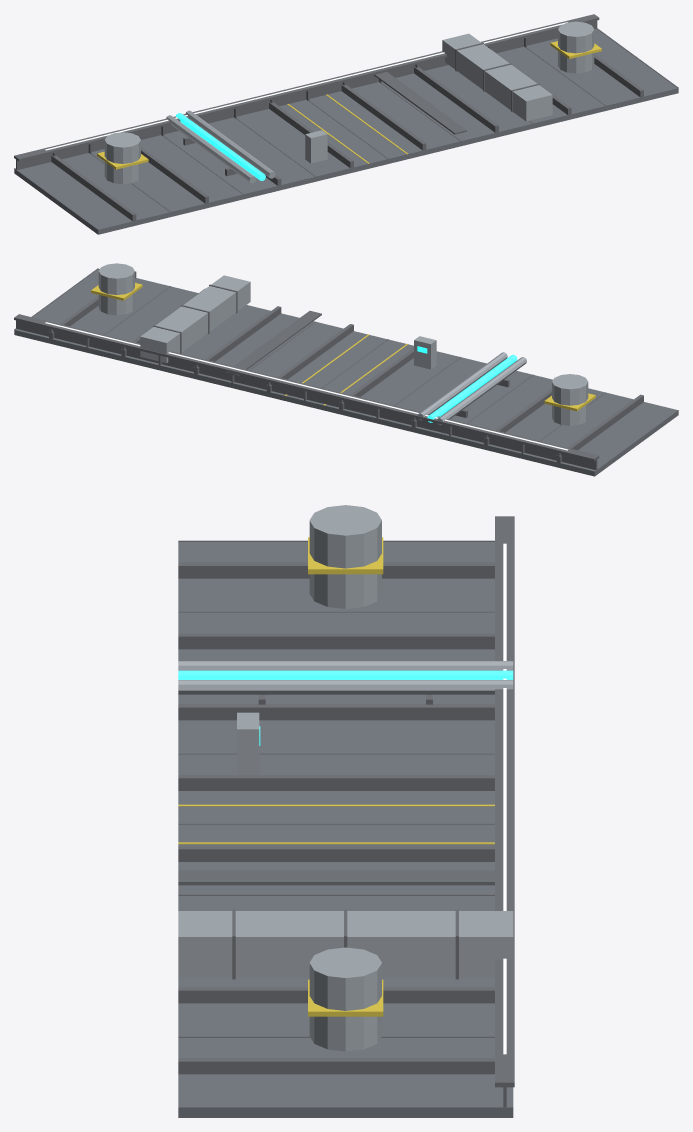
The model's file is hull_bay.glb.
The picture shows the model from 3 angles, top to bottom: view 1: azimuth 30°, elevation 25°; view 2: azimuth 150°, elevation 25°; view 3: azimuth 270°, elevation 25°; orthographic projection. The views are drawn at different scales.
Parts seen in each view (by area): view 1: Plating, Duct, RibFlange, RibWeb, Tank_0, Tank_1, CableTray, RibLight, Pipe_0, Stringer_4, Stringer_0, Pipe_1 (+6 smaller); view 2: Plating, RibWeb, Duct, RibFlange, Tank_0, Tank_1, CableTray, RibLight, Pipe_0, Pipe_1, Pipe_2, Stringer_4 (+6 smaller); view 3: Plating, Duct, RibFlange, Tank_1, Tank_0, Stringer_1, Stringer_4, Stringer_7, Stringer_2, Stringer_3, CableTray, Pipe_2 (+9 smaller).
Part boxes in pixels (x1=…): Plating: x1=14, y1=29, x2=678, y2=234; Duct: x1=442, y1=33, x2=552, y2=121; RibFlange: x1=14, y1=14, x2=599, y2=161; RibWeb: x1=16, y1=20, x2=597, y2=169; Tank_0: x1=104, y1=132, x2=140, y2=184; Tank_1: x1=558, y1=21, x2=594, y2=73; CableTray: x1=374, y1=72, x2=466, y2=134; RibLight: x1=45, y1=22, x2=567, y2=150; Pipe_0: x1=166, y1=115, x2=256, y2=183; Stringer_4: x1=341, y1=84, x2=426, y2=150; Stringer_0: x1=51, y1=155, x2=136, y2=221; Pipe_1: x1=176, y1=113, x2=265, y2=180; Plating: x1=14, y1=269, x2=678, y2=476; RibWeb: x1=16, y1=320, x2=597, y2=469; Duct: x1=140, y1=275, x2=250, y2=363; RibFlange: x1=14, y1=314, x2=599, y2=461; Tank_0: x1=552, y1=374, x2=588, y2=425; Tank_1: x1=98, y1=263, x2=134, y2=315; CableTray: x1=226, y1=311, x2=321, y2=376; RibLight: x1=45, y1=322, x2=568, y2=450; Pipe_0: x1=437, y1=357, x2=526, y2=425; Pipe_1: x1=427, y1=354, x2=517, y2=422; Pipe_2: x1=417, y1=352, x2=507, y2=420; Stringer_4: x1=266, y1=324, x2=353, y2=392; Plating: x1=178, y1=542, x2=513, y2=1117; Duct: x1=178, y1=911, x2=513, y2=977; RibFlange: x1=495, y1=516, x2=514, y2=1087; Tank_1: x1=309, y1=947, x2=381, y2=1051; Tank_0: x1=309, y1=505, x2=381, y2=608; Stringer_1: x1=178, y1=633, x2=494, y2=649; Stringer_4: x1=178, y1=845, x2=494, y2=861; Stringer_7: x1=178, y1=1058, x2=494, y2=1074; Stringer_2: x1=178, y1=704, x2=494, y2=720; Stringer_3: x1=178, y1=775, x2=494, y2=790; CableTray: x1=178, y1=870, x2=494, y2=885; Pipe_2: x1=178, y1=680, x2=513, y2=694.
Bounding box in the file's own units: 48.08 × 3.8 × 12.05.
